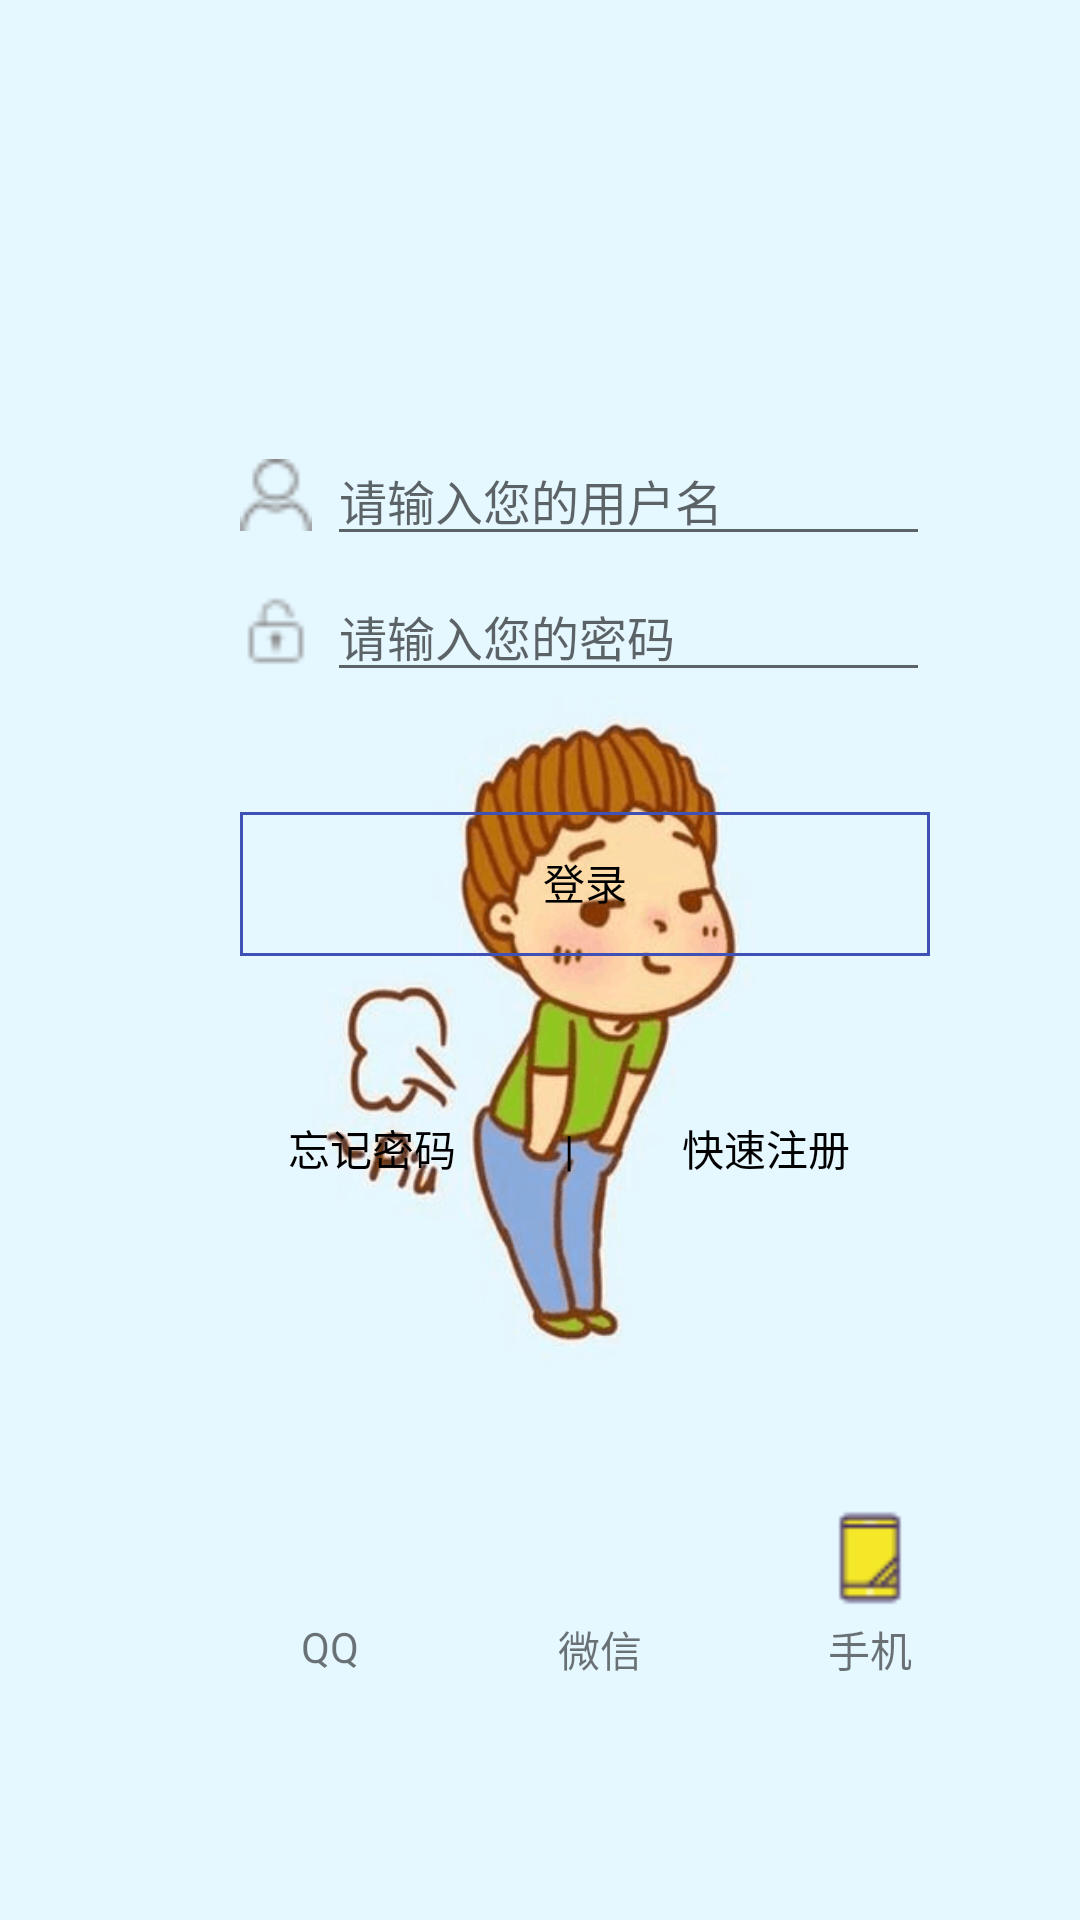

Screen size 1080px×1920px. Icon name, then its center in pixels as [x,y]:
account: [276,495]
pass: [276,631]
